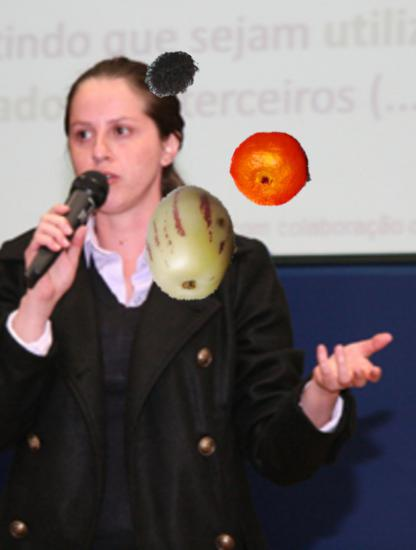Clementine: (231, 127, 314, 210)
Pepino: (132, 187, 246, 301)
Rambutan: (145, 48, 197, 100)
